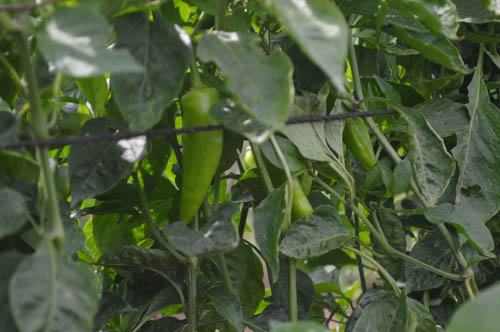ChiliPepper: (181, 90, 224, 230), (346, 116, 378, 166)
